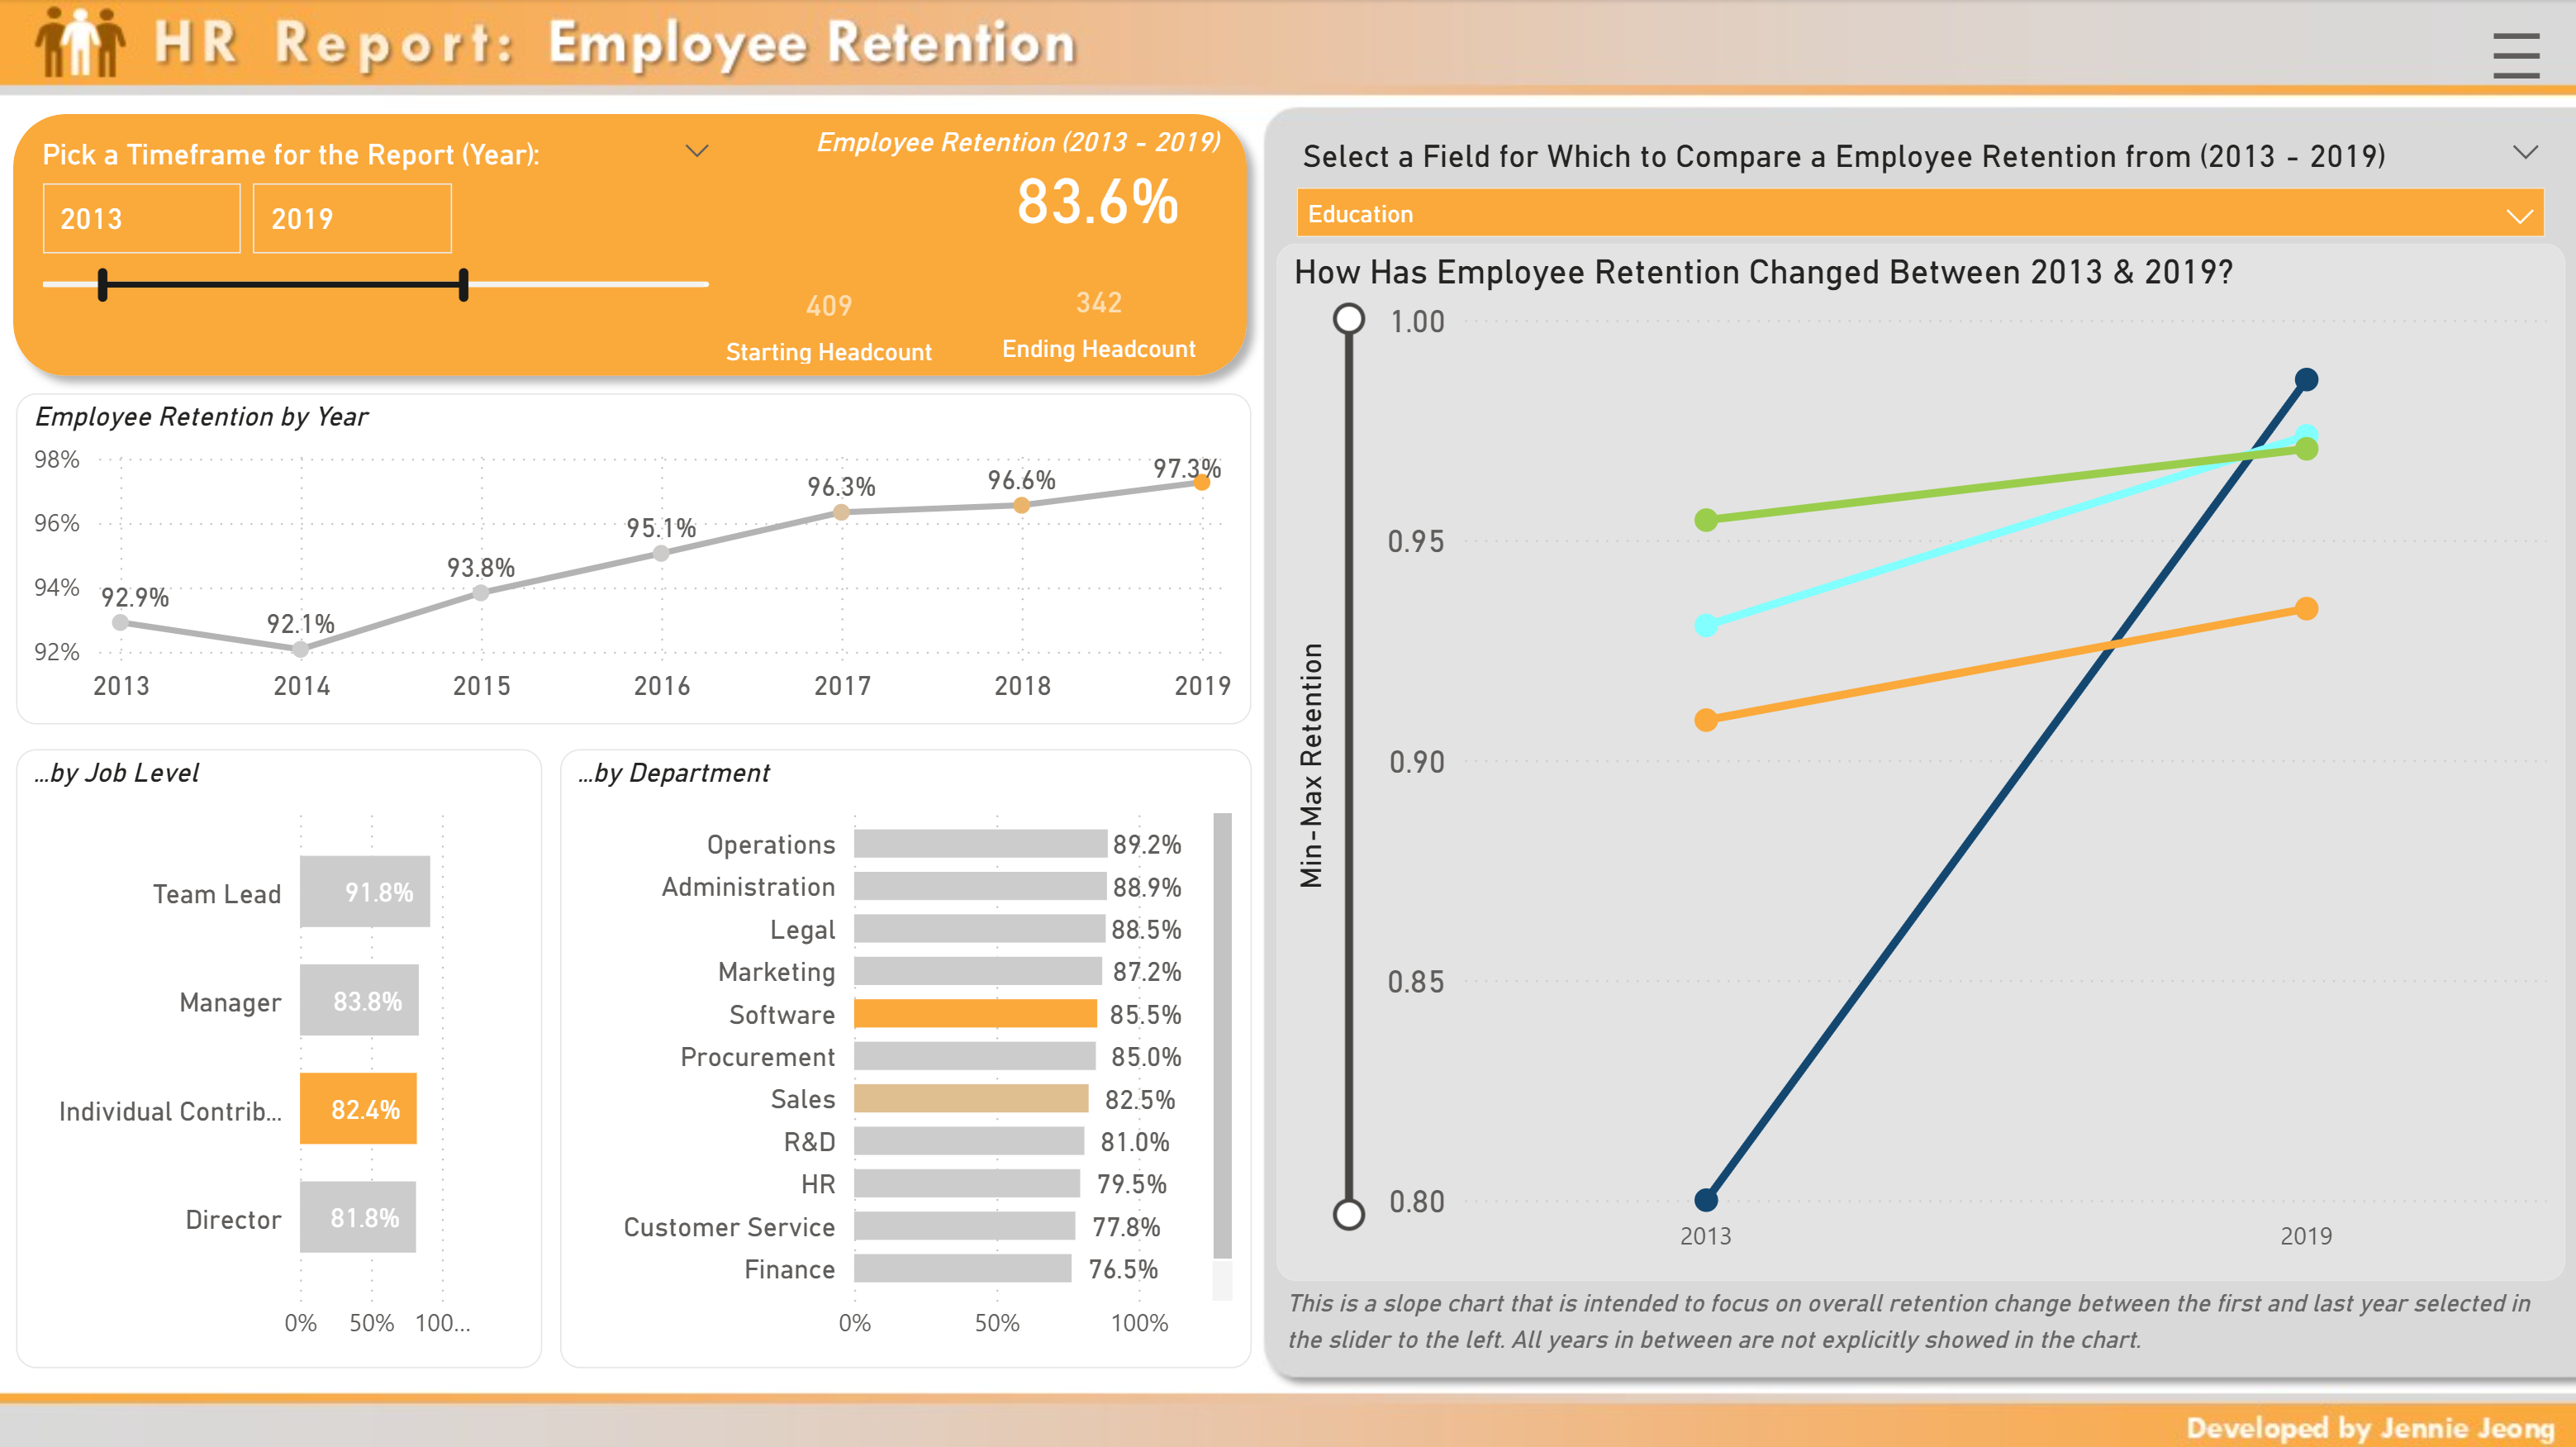

What the dashboard file says about the page in this screenshot:
{"tool":"powerbi","page":{"name":"Retention","canvas":[1280,720],"ordinal":2},"visuals":[{"type":"shape","box":[0,47.9,629.1,147.6],"z":0},{"type":"card","title":"Employee Retention (2013 - 2019)","fields":{"Values":["_Measures.Retention"]},"box":[401.7,63.2,289.3,53.2],"z":1000},{"type":"lineChart","title":"Employee Retention by Year","fields":{"Category":["Date.Year"],"Y":["_Measures.Retention"]},"box":[10.6,195.5,611.8,164.3],"z":2000},{"type":"clusteredBarChart","title":"...by Job Level","fields":{"Category":["job_level_dim.job_level"],"Y":["_Measures.Retention"]},"box":[10.6,371.8,260.7,306.6],"z":3000},{"type":"clusteredBarChart","title":"...by Department","fields":{"Category":["department_dim.department"],"Y":["_Measures.Retention"]},"box":[280,371.8,342.5,306.6],"z":4000},{"type":"slicer","fields":{"Values":["Parameter.Parameter"]},"box":[635.1,63.2,638.5,95.8],"z":5000},{"type":"lineChart","title":"How Has Employee Retention Changed Between 2013 & 2019?","fields":{"Series":["education_dim.education"],"Category":["Date.Year"],"Y":["_Measures.Min-Max Retention"]},"box":[635.1,121,638.5,514.1],"z":6000},{"type":"card","fields":{"Values":["_Measures.Starting Headcount"]},"box":[355.8,133,115.1,52.5],"z":7000},{"type":"card","fields":{"Values":["_Measures.Ending Headcount"]},"box":[470.9,121,151.6,73.8],"z":8000},{"type":"slicer","fields":{"Values":["Date.Year"]},"box":[10.6,63.2,356.5,86.5],"z":9000},{"type":"textbox","box":[635.1,629.8,638.5,48.5],"z":10000},{"type":"actionButton","box":[1218.6,0,61.4,51.6],"z":11000}]}

Visuals, with their boxes in screenshot pixels (x1, y1, x2, y2), scaled from the page's 1280x720 canvas onto the 2576x1447 screenshot:
shape: 0,96,1266,393
"Employee Retention (2013 - 2019)" card: 809,127,1390,234
"Employee Retention by Year" lineChart: 21,393,1252,723
"...by Job Level" clusteredBarChart: 21,747,546,1364
"...by Department" clusteredBarChart: 563,747,1252,1364
slicer - Parameter.Parameter: 1278,127,2563,320
"How Has Employee Retention Changed Between 2013 & 2019?" lineChart: 1278,243,2563,1277
card - _Measures.Starting Headcount: 716,267,948,373
card - _Measures.Ending Headcount: 948,243,1252,392
slicer - Date.Year: 21,127,739,301
textbox: 1278,1266,2563,1364
actionButton: 2452,0,2575,103
